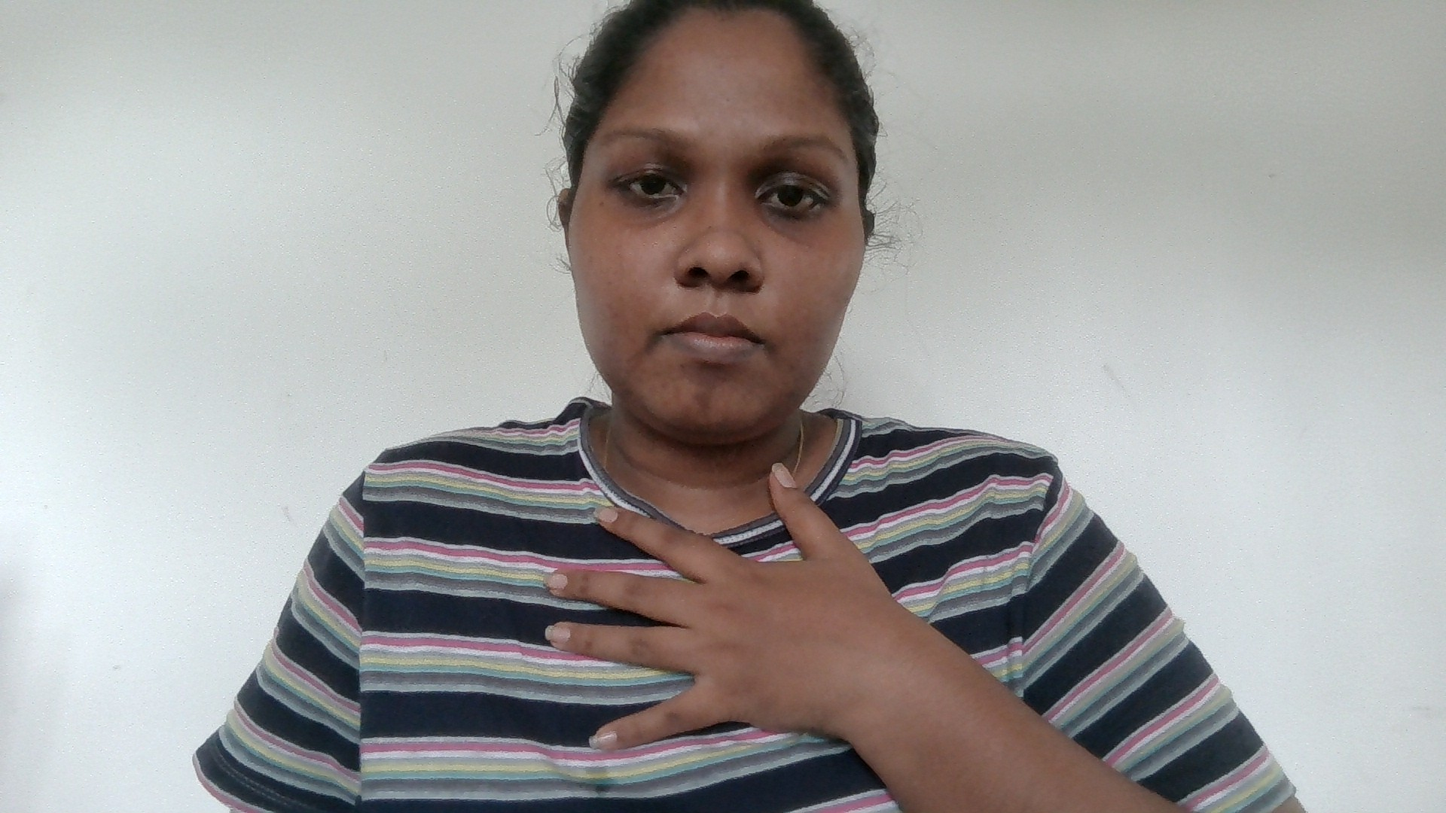Please: (537, 471, 915, 789)
